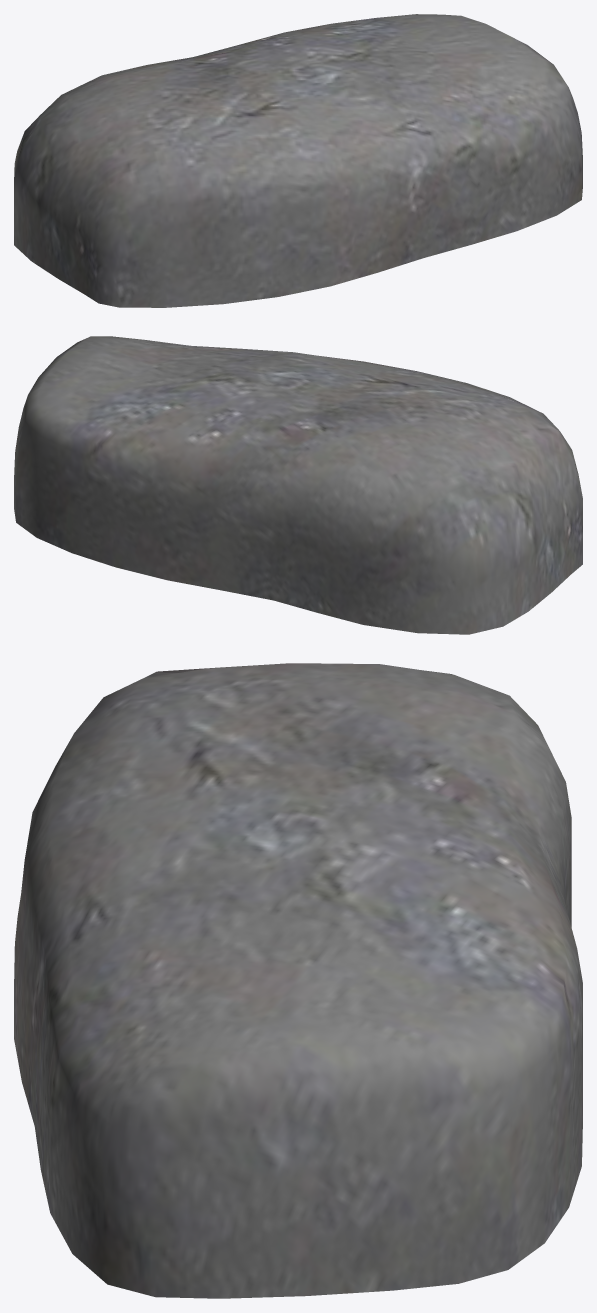
File: SM_Sun_Pal_Stone_L.fbx
The picture shows the model from 3 angles, top to bottom: view 1: azimuth 30°, elevation 25°; view 2: azimuth 150°, elevation 25°; view 3: azimuth 270°, elevation 25°; orthographic projection. The views are drawn at different scales.
Parts seen in each view (by area): view 1: SM_Sun_Pal_Stone_L; view 2: SM_Sun_Pal_Stone_L; view 3: SM_Sun_Pal_Stone_L.
Boxes of the visible parts, x1,y1,x2,y2 form: SM_Sun_Pal_Stone_L: [14, 14, 582, 307]; SM_Sun_Pal_Stone_L: [14, 336, 582, 634]; SM_Sun_Pal_Stone_L: [14, 663, 582, 1298].
Size of the model in its own units: 80.19 by 22.99 by 44.22.
